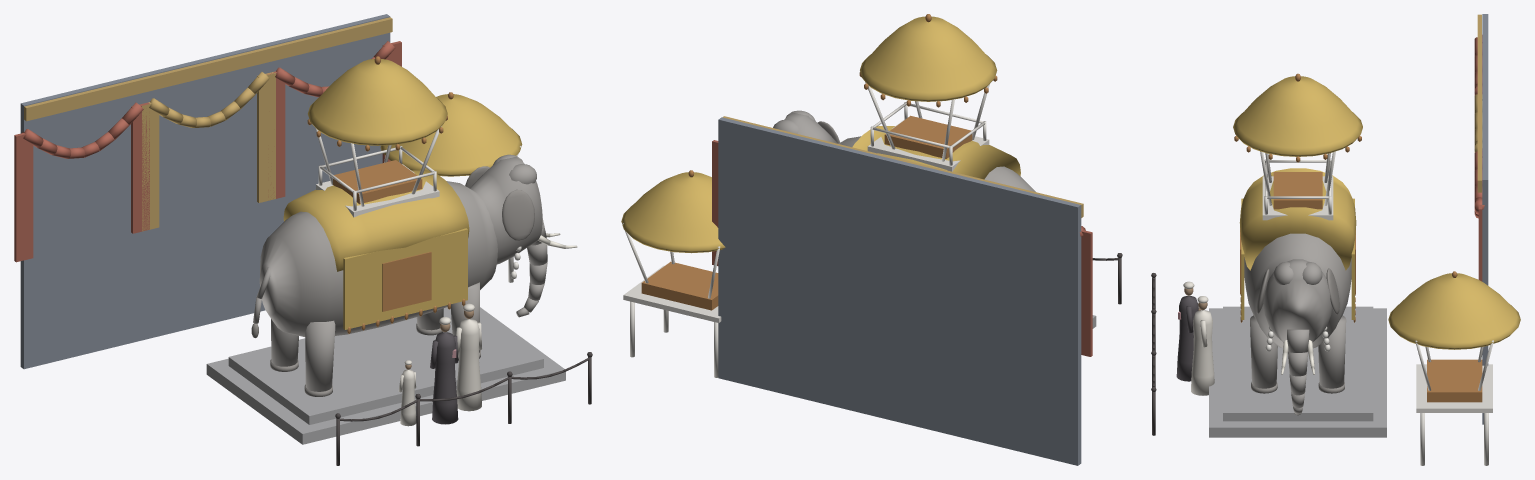
The model's file is scan-fig27-elephant-and-howdah-muse.glb.
3 renders of one model, left to right at view 1: azimuth 30°, elevation 25°; view 2: azimuth 150°, elevation 25°; view 3: azimuth 270°, elevation 25°, orthographic. The views are drawn at different scales.
Parts seen in each view (by area): view 1: DrapeWall, PlinthStep2, Body, HowdahCanopy, CaparisonTop, CaparisonSideR, PlinthStep1, DrapeValance, Stand2Canopy, Head, Drape0-1, CaparisonPanelR (+13 smaller); view 2: DrapeWall, HowdahCanopy, Stand2Canopy, Stand2Seat, CaparisonTop, HowdahSeat, Drape0-1, Stand2Top, HowdahDeck, DrapeValance, Body, Head (+1 smaller); view 3: PlinthStep2, HowdahCanopy, Stand2Canopy, PlinthStep1, CaparisonTop, Body, Head, Stand2Seat, DrapeWall, HowdahSeat, AttADress, Stand2Top (+7 smaller).
Part boxes in pixels (x1,y1,x2,y2): DrapeWall: (20,14,390,369); PlinthStep2: (228,307,543,424); Body: (259,181,497,336); HowdahCanopy: (307,59,447,145); CaparisonTop: (283,170,469,271); CaparisonSideR: (343,228,467,329); PlinthStep1: (206,307,565,444); DrapeValance: (24,17,392,121); Stand2Canopy: (380,94,522,176); Head: (470,157,542,264); Drape0-1: (14,132,33,262); CaparisonPanelR: (382,251,431,311); DrapeWall: (718,117,1081,465); HowdahCanopy: (860,16,997,101); Stand2Canopy: (621,172,725,253); Stand2Seat: (641,261,718,310); CaparisonTop: (852,126,1020,179); HowdahSeat: (884,115,972,158); Drape0-1: (1081,230,1092,356); Stand2Top: (623,265,721,322); HowdahDeck: (867,120,989,171); DrapeValance: (722,116,1083,217); Body: (838,136,1035,191); Head: (784,113,837,143); PlinthStep2: (1223,306,1373,421); HowdahCanopy: (1233,76,1362,156); Stand2Canopy: (1388,273,1520,349); PlinthStep1: (1209,308,1386,437); CaparisonTop: (1239,168,1356,270); Body: (1244,233,1351,348); Head: (1263,259,1331,342); Stand2Seat: (1427,359,1482,402); DrapeWall: (1482,14,1488,424); HowdahSeat: (1273,172,1322,209); AttADress: (1191,310,1214,395); Stand2Top: (1416,364,1492,412).
Bounding box in the file's own units: 8.45 × 5.4 × 6.02.
